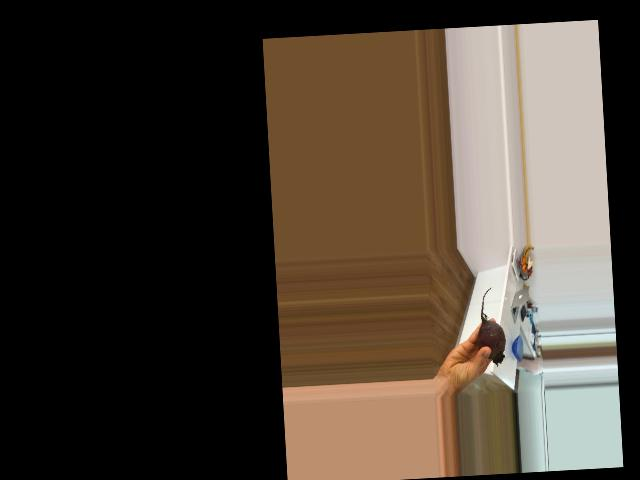beet: (475, 286, 506, 366)
